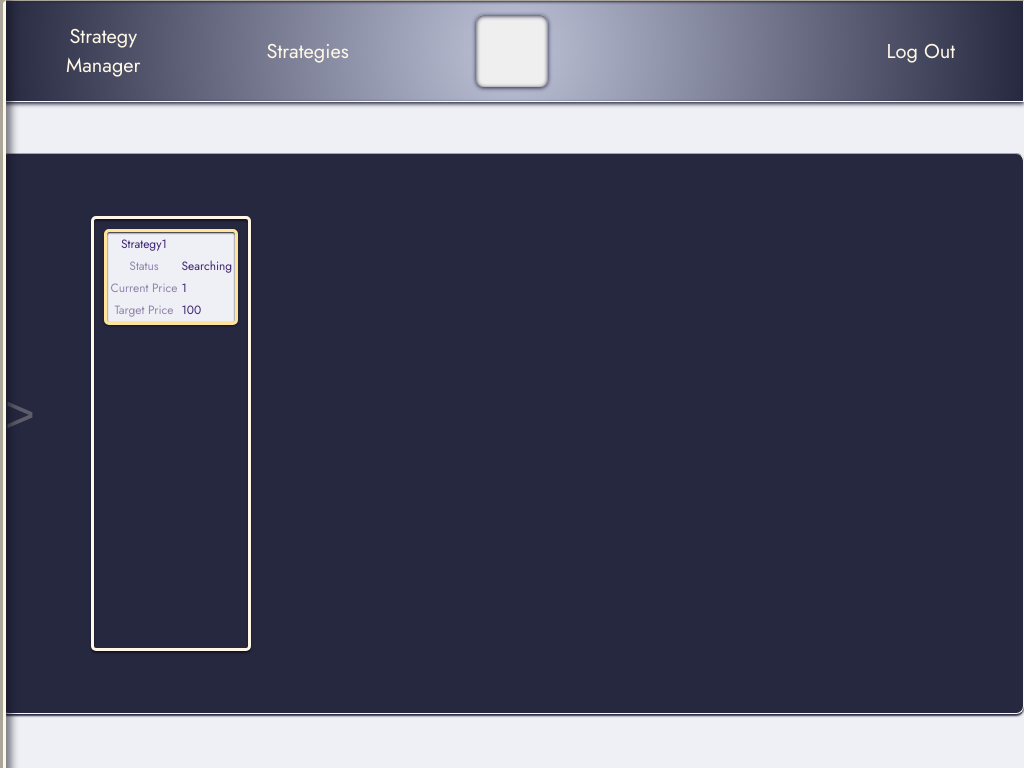
Test: strategy modal features › should pop-up strategy modal after being clicked
This screenshot has width=1024, height=768.
Click the button "Strategy Manager" at x=103, y=51, box [53,1,153,101]
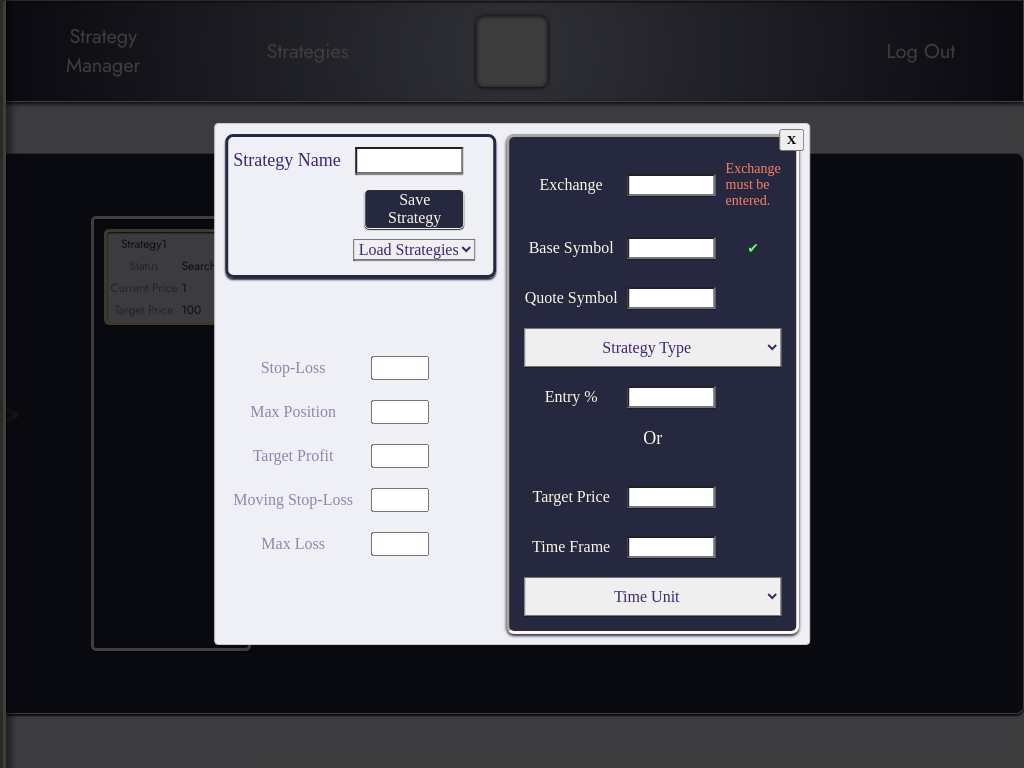
Result: the dialog is shown at [214,123,810,645]
